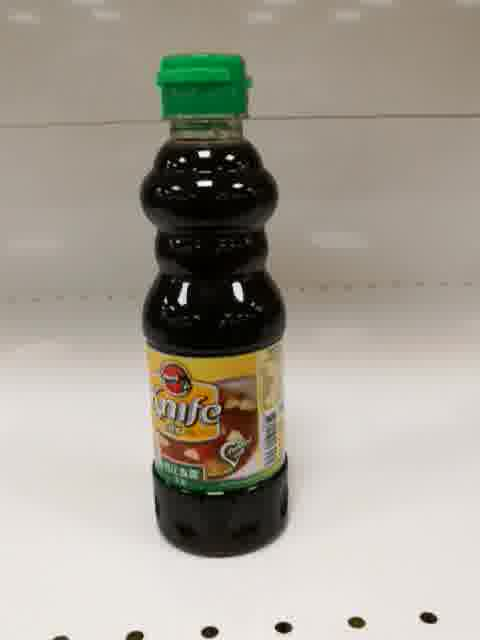cookingoil: (136, 51, 292, 556)
